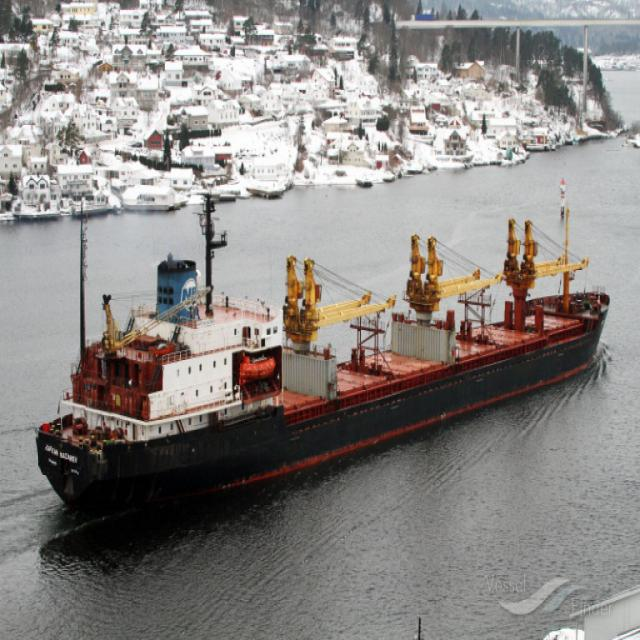OCR: (38, 437, 83, 475)
